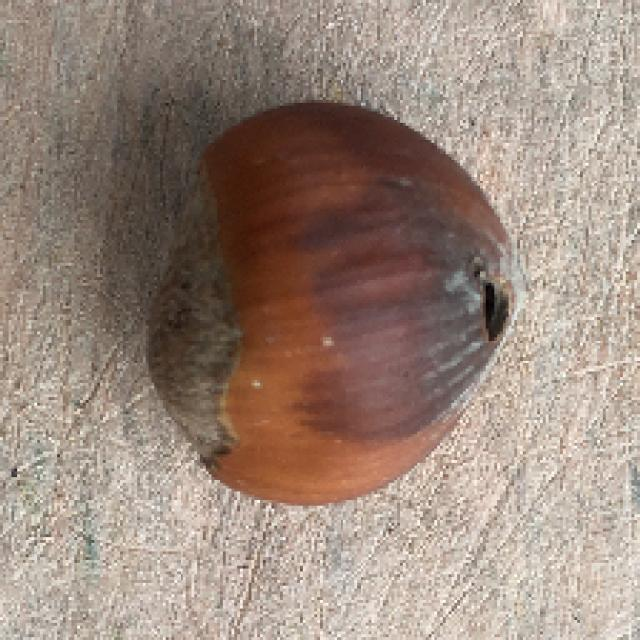damagedHazelnut: (138, 90, 524, 504)
